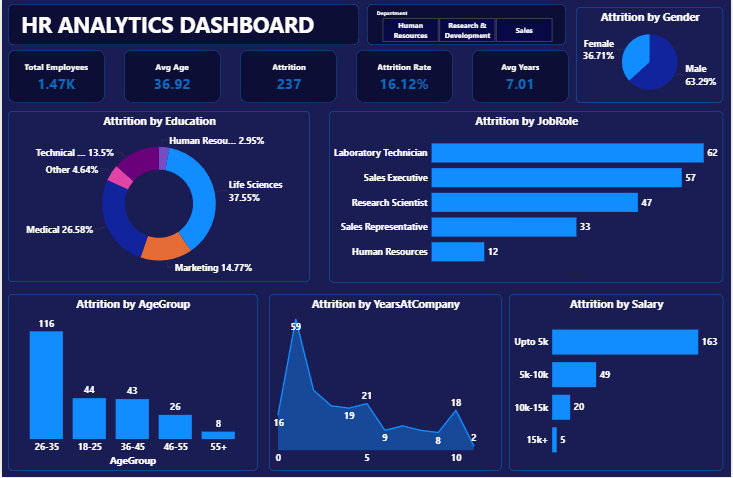

This screenshot's page, from the dashboard's own definition file:
{"tool":"powerbi","page":{"name":"Page 1","canvas":[1620,1060],"ordinal":0},"visuals":[{"type":"shape","box":[12.8,8.5,780.2,91.4],"z":0,"group":"g6"},{"type":"shape","box":[811.1,8.9,442.2,91.1],"z":0,"group":"g7"},{"type":"shape","box":[787.4,110.2,214.6,116.6],"z":0,"group":"g4"},{"type":"shape","box":[1044.5,110.2,214.6,116.6],"z":0,"group":"g5"},{"type":"group","id":"g1","title":"Group 1","box":[12.2,112.2,216.2,118.3],"z":0},{"type":"shape","box":[528.4,112.2,214.6,116.6],"z":0,"group":"g3"},{"type":"shape","box":[12.2,112.2,214.6,116.6],"z":500,"group":"g1"},{"type":"textbox","box":[37.3,15,736.5,78.4],"z":1000,"group":"g6"},{"type":"group","id":"g2","title":"Group 2","box":[271.3,112.2,214.2,118.3],"z":1000},{"type":"cardVisual","fields":{"Data":["Measures (2).Attrition Rate"]},"box":[793.5,116,201.6,105.1],"z":1000,"group":"g4"},{"type":"cardVisual","fields":{"Data":["Measures (2).Avg Years"]},"box":[1051.7,116,201.6,105.1],"z":1000,"group":"g5"},{"type":"cardVisual","fields":{"Data":["Measures (2).Attrition"]},"box":[537.8,118,201.6,105.1],"z":1000,"group":"g3"},{"type":"group","id":"g3","title":"Group 3","box":[528.4,112.2,216.2,118.3],"z":2000},{"type":"cardVisual","fields":{"Data":["Measures (2).Total Employees"]},"box":[19.4,118,201.6,105.1],"z":2000,"group":"g1"},{"type":"shape","box":[271.3,112.2,214.6,116.6],"z":2001,"group":"g2"},{"type":"cardVisual","fields":{"Data":["Measures (2).Avg Age"]},"box":[278.1,118,201.6,105.1],"z":2008,"group":"g2"},{"type":"group","id":"g4","title":"Group 4","box":[787.4,110.2,214.2,118.3],"z":3000},{"type":"group","id":"g5","title":"Group 5","box":[1044.5,110.2,216.2,116.3],"z":4000},{"type":"donutChart","title":"Attrition by Education","fields":{"Y":["Measures (2).Attrition"],"Series":["HR_Analytics_1.EducationField"]},"box":[13.3,246.7,671.1,380],"z":5000},{"type":"group","id":"g6","title":"Group 6","box":[12.8,8.5,780.2,91.4],"z":6000},{"type":"clusteredColumnChart","fields":{"Y":["Measures (2).Attrition"],"Category":["HR_Analytics_1.AgeGroup"]},"box":[12.8,652.7,554.9,393.3],"z":7000},{"type":"clusteredBarChart","fields":{"Y":["Measures (2).Attrition"],"Category":["HR_Analytics_1.JobRole"]},"box":[727.1,246.6,875.9,380.6],"z":8000},{"type":"clusteredBarChart","title":"Attrition by Salary","fields":{"Y":["Measures (2).Attrition"],"Category":["HR_Analytics_1.SalarySlab"]},"box":[1126.8,652.7,476.2,393.3],"z":9000},{"type":"areaChart","fields":{"Y":["Measures (2).Attrition"],"Category":["HR_Analytics_1.YearsAtCompany"]},"box":[593.1,652.7,516.6,393.3],"z":11000},{"type":"slicer","fields":{"Values":["HR_Analytics_1.Department"]},"box":[820,15.6,426.7,77.8],"z":11001,"group":"g7"},{"type":"pieChart","fields":{"Category":["HR_Analytics_1.Gender"],"Y":["Measures (2).Attrition"]},"box":[1275.6,14.9,327.4,212.6],"z":11002},{"type":"group","id":"g7","title":"Group 7","box":[811.1,8.9,442.2,91.1],"z":11003}]}

Visuals, with their boxes in screenshot pixels (x1, y1, x2, y2), scaled from the page's 1620x1060 canvas onto the 733x478 screenshot:
shape: left=6, top=4, right=359, bottom=45
shape: left=367, top=4, right=567, bottom=45
shape: left=356, top=50, right=453, bottom=102
shape: left=473, top=50, right=570, bottom=102
"Group 1" group: left=6, top=51, right=103, bottom=104
shape: left=239, top=51, right=336, bottom=103
shape: left=6, top=51, right=103, bottom=103
textbox: left=17, top=7, right=350, bottom=42
"Group 2" group: left=123, top=51, right=220, bottom=104
cardVisual - Measures (2).Attrition Rate: left=359, top=52, right=450, bottom=100
cardVisual - Measures (2).Avg Years: left=476, top=52, right=567, bottom=100
cardVisual - Measures (2).Attrition: left=243, top=53, right=335, bottom=101
"Group 3" group: left=239, top=51, right=337, bottom=104
cardVisual - Measures (2).Total Employees: left=9, top=53, right=100, bottom=101
shape: left=123, top=51, right=220, bottom=103
cardVisual - Measures (2).Avg Age: left=126, top=53, right=217, bottom=101
"Group 4" group: left=356, top=50, right=453, bottom=103
"Group 5" group: left=473, top=50, right=570, bottom=102
"Attrition by Education" donutChart: left=6, top=111, right=310, bottom=283
"Group 6" group: left=6, top=4, right=359, bottom=45
clusteredColumnChart - Measures (2).Attrition x HR_Analytics_1.AgeGroup: left=6, top=294, right=257, bottom=472
clusteredBarChart - Measures (2).Attrition x HR_Analytics_1.JobRole: left=329, top=111, right=725, bottom=283
"Attrition by Salary" clusteredBarChart: left=510, top=294, right=725, bottom=472
areaChart - Measures (2).Attrition x HR_Analytics_1.YearsAtCompany: left=268, top=294, right=502, bottom=472
slicer - HR_Analytics_1.Department: left=371, top=7, right=564, bottom=42
pieChart - HR_Analytics_1.Gender x Measures (2).Attrition: left=577, top=7, right=725, bottom=103
"Group 7" group: left=367, top=4, right=567, bottom=45
